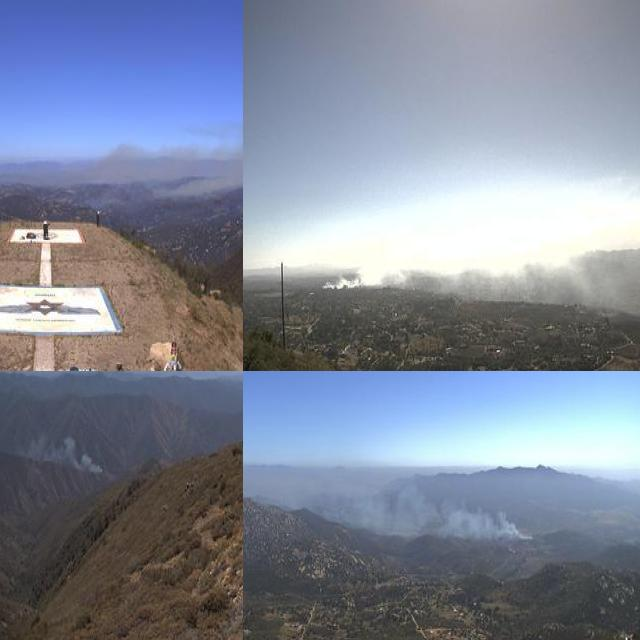smoke: (323, 207, 640, 322), (274, 461, 532, 546), (0, 415, 116, 483), (156, 136, 243, 216)
